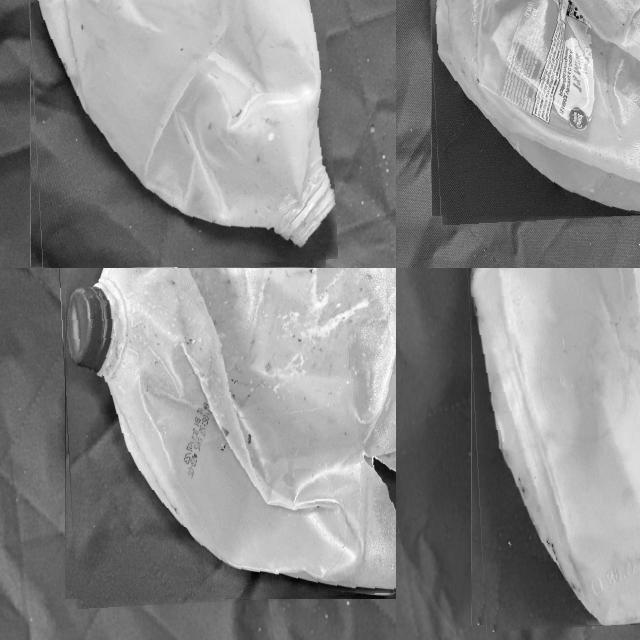milk-jug: (59, 268, 396, 604), (24, 0, 332, 268), (464, 268, 640, 628), (426, 0, 640, 221)
